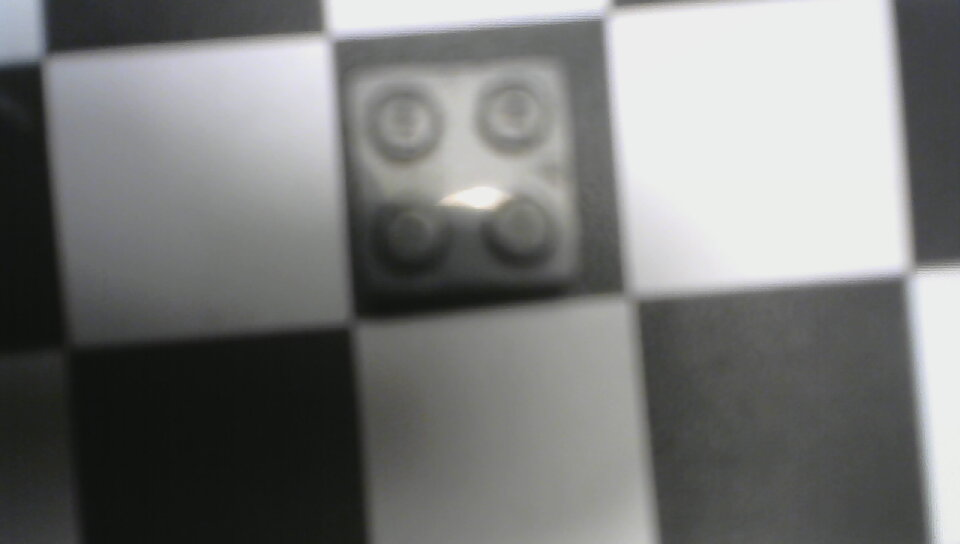bp: (343, 44, 588, 314)
